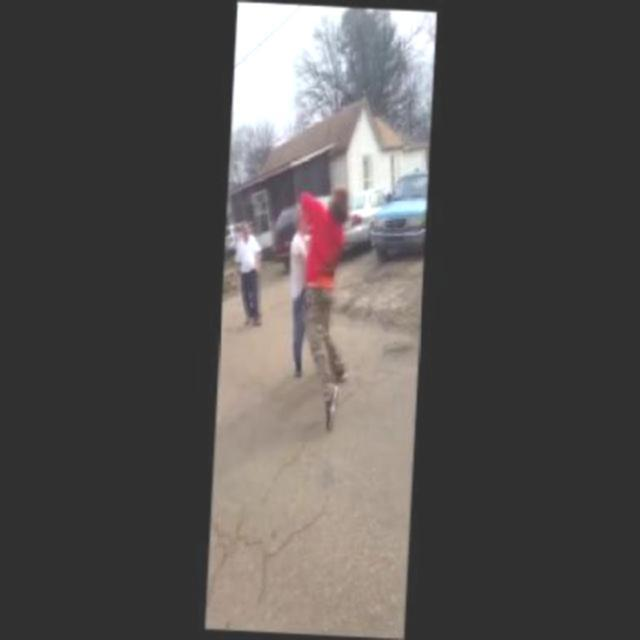fight: (287, 187, 355, 436)
